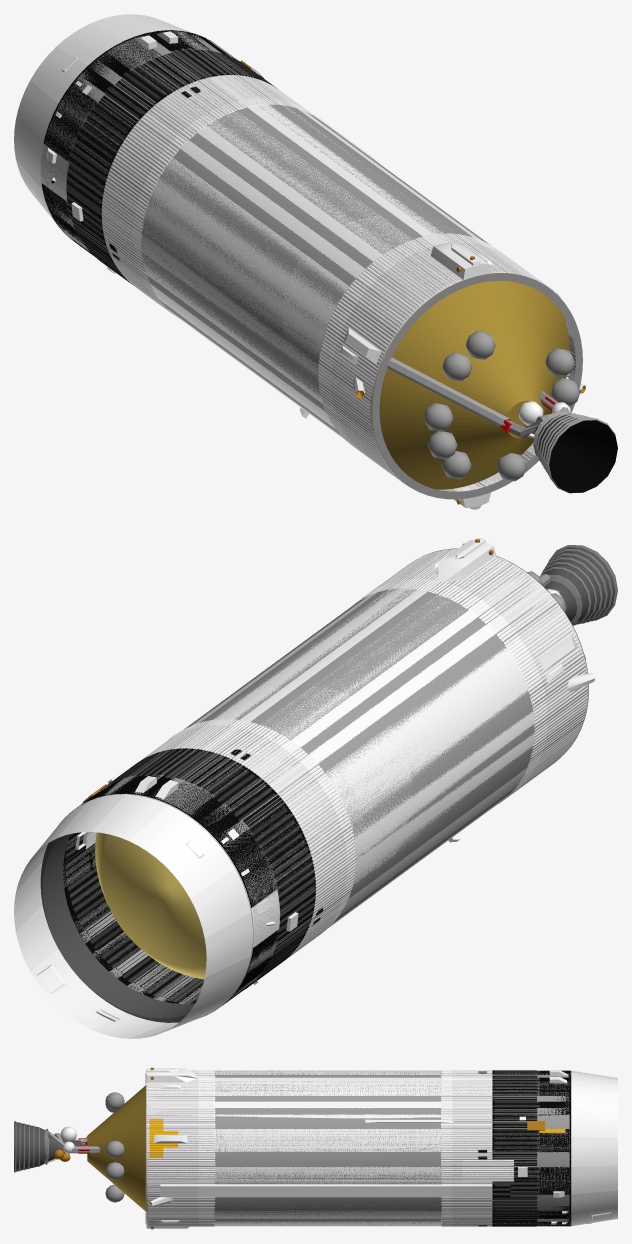
The model's file is s4b_stretch198.obj.
The picture shows the model from 3 angles, top to bottom: view 1: azimuth 30°, elevation 25°; view 2: azimuth 150°, elevation 25°; view 3: azimuth 270°, elevation 25°; orthographic projection. The views are drawn at different scales.
Visible parts, largest first — view 1: group148, group359, group19, group358, group344, group150, group345, group349, group308, group347, group350, group355 (+3 smaller); view 2: group148, group359, group345, group344, group370, group346, group347, group308; view 3: group148, group359, group345, group344, group19, group347, group308, group305, group360, group352, group353, group351 (+1 smaller).
Part boxes in pixels (x1,y1,x2,y2): group148: (40, 30, 575, 491); group359: (42, 31, 575, 491); group19: (372, 273, 569, 489); group358: (372, 273, 582, 499); group344: (16, 14, 194, 222); group150: (549, 420, 617, 492); group345: (14, 14, 165, 189); group349: (381, 356, 510, 426); group308: (431, 240, 487, 509); group347: (524, 414, 595, 477); group350: (442, 352, 472, 381); group355: (423, 403, 453, 431); group148: (63, 549, 588, 1004); group359: (63, 549, 587, 1003); group345: (14, 794, 253, 1038); group344: (16, 793, 251, 1038); group370: (95, 832, 206, 979); group346: (40, 794, 253, 1022); group347: (543, 545, 617, 623); group308: (436, 538, 496, 582); group148: (146, 1070, 570, 1226); group359: (147, 1070, 569, 1225); group345: (571, 1073, 617, 1225); group344: (571, 1070, 617, 1226); group19: (130, 1085, 146, 1211); group347: (14, 1121, 87, 1171); group308: (146, 1068, 198, 1228); group305: (153, 1134, 187, 1143); group360: (48, 1132, 100, 1153); group352: (105, 1162, 124, 1179); group353: (105, 1140, 124, 1158); group351: (105, 1092, 124, 1109).
Bounding box in the file's own units: 7.22 × 7.51 × 25.6.
Materials: 10 (1 with a texture image).
